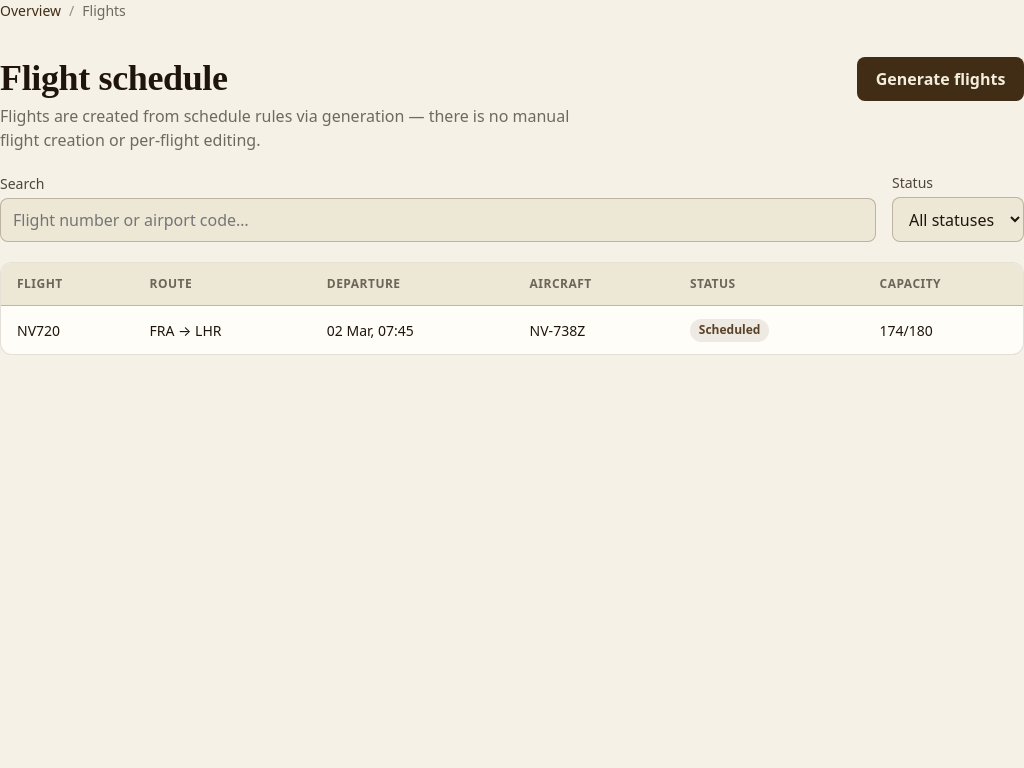
FlightsPage › surfaces generation errors inline via toErrorMessage
Click the button "Generate flights": x=941, y=79 [857,57,1023,101]
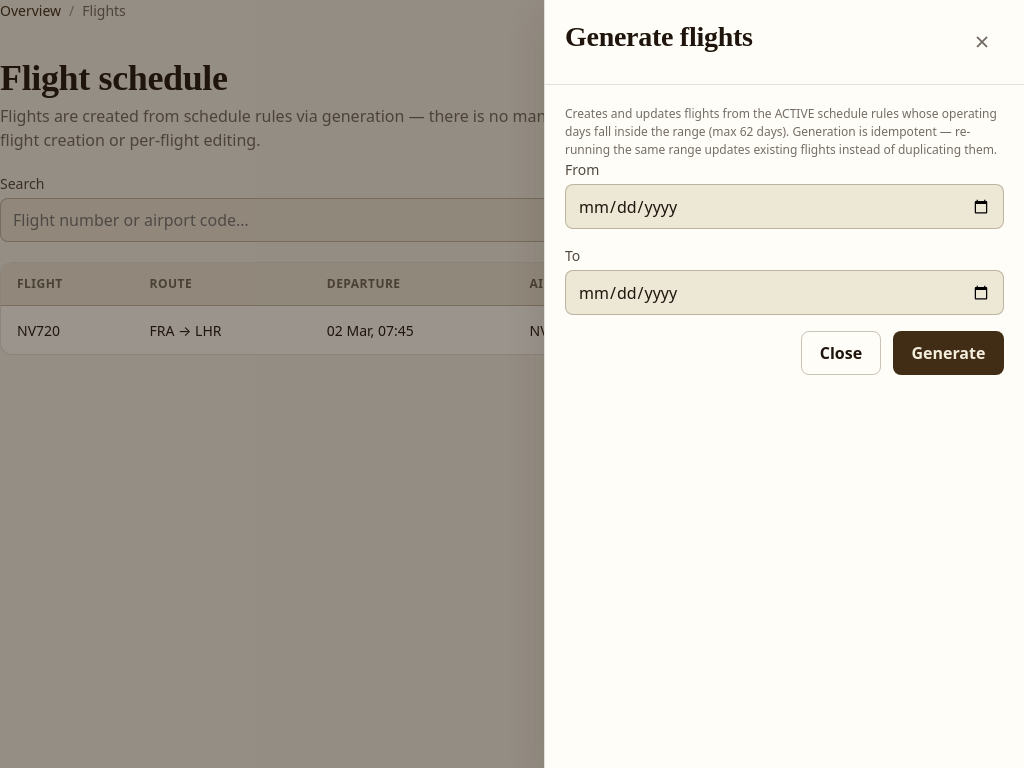
In the date field with id "gen-from": x=784, y=207 [565,184,1004,229], type "2026-03-01"
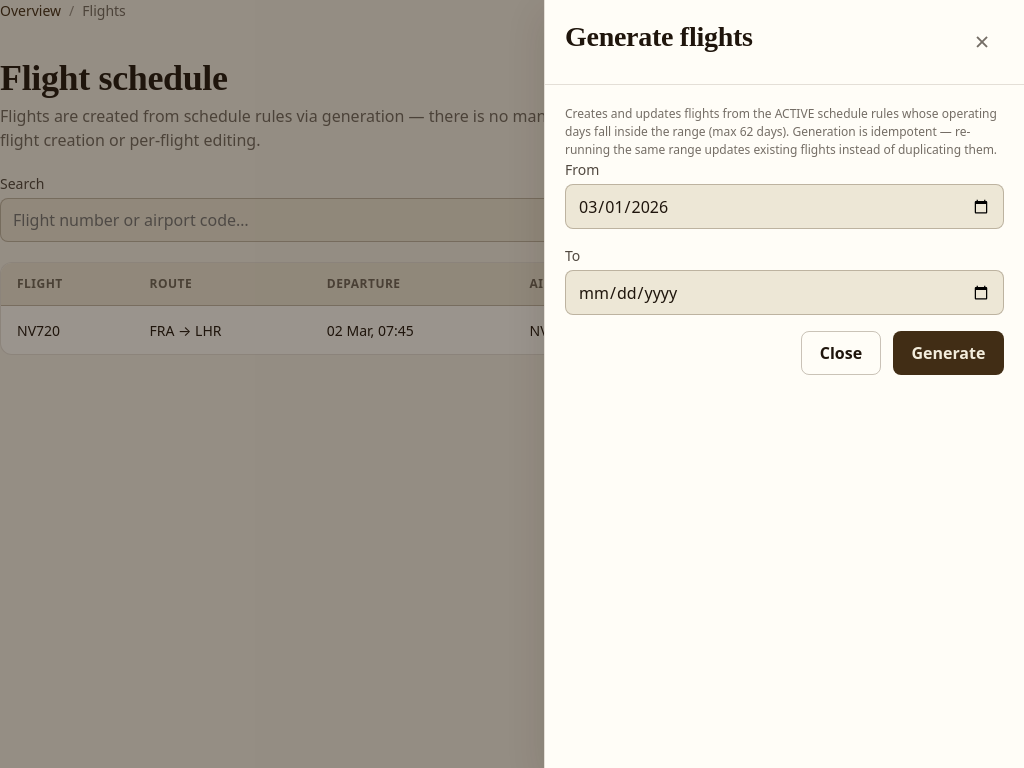
In the date field with id "gen-to": x=784, y=293 [565,270,1004,315], type "2026-04-30"
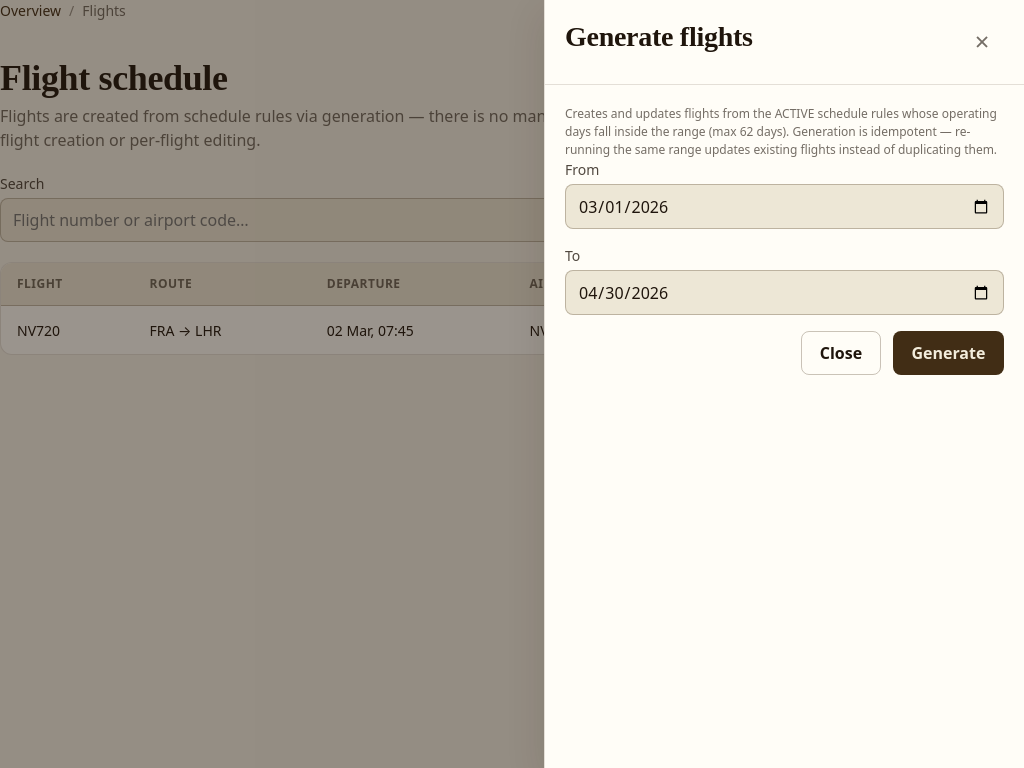
Submit the form, box [545,85,1023,395]
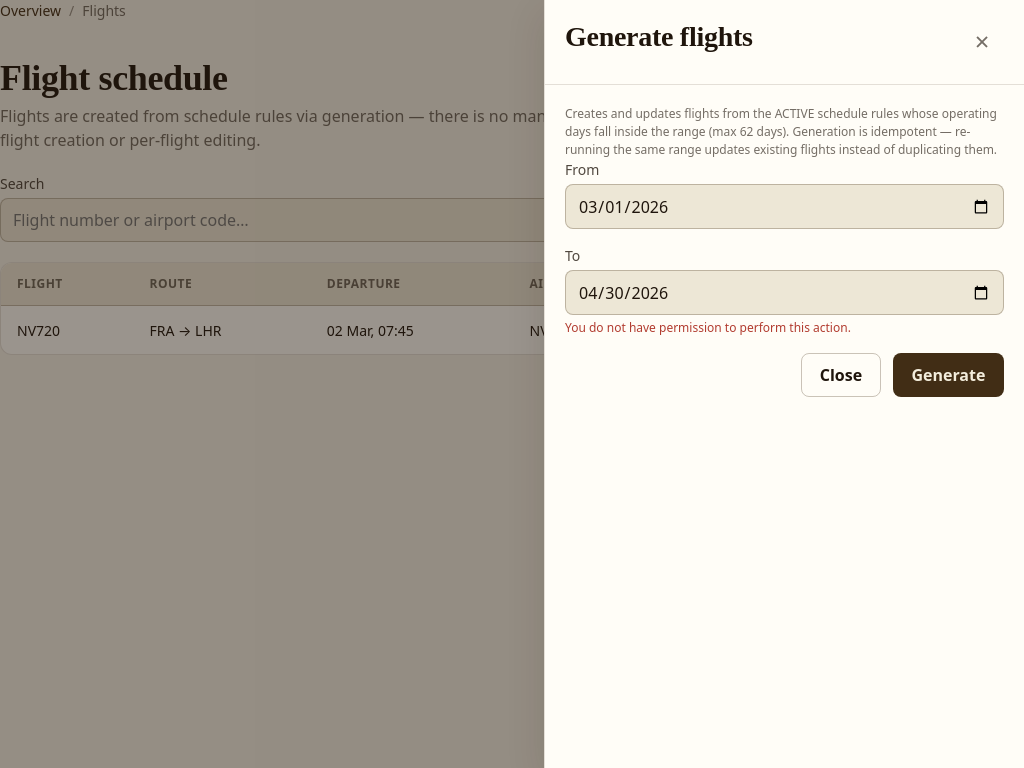
Result: the text "You do not have permission to perform this action." is shown at [565,319,851,336]
